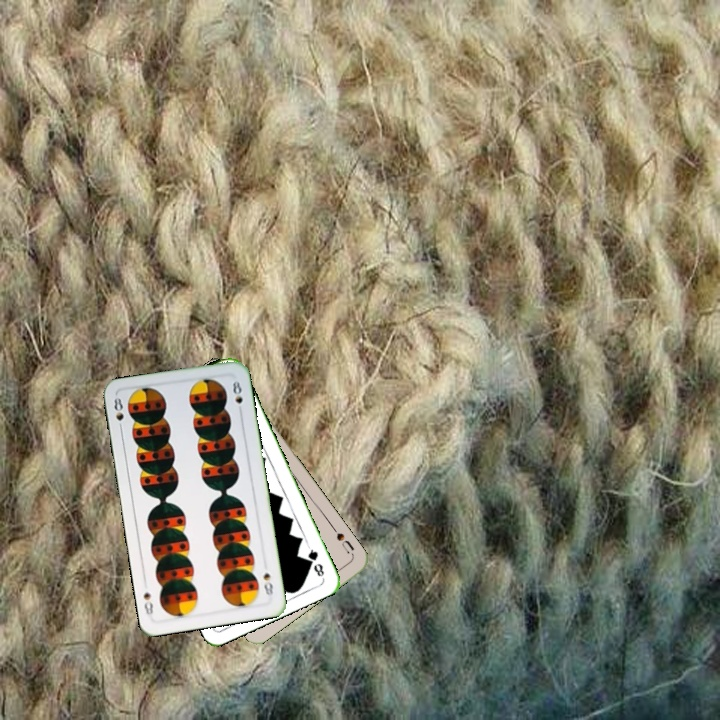G8: (304, 542, 327, 579)
S8: (109, 394, 126, 434), (259, 569, 276, 598)
SU: (328, 523, 357, 556)
